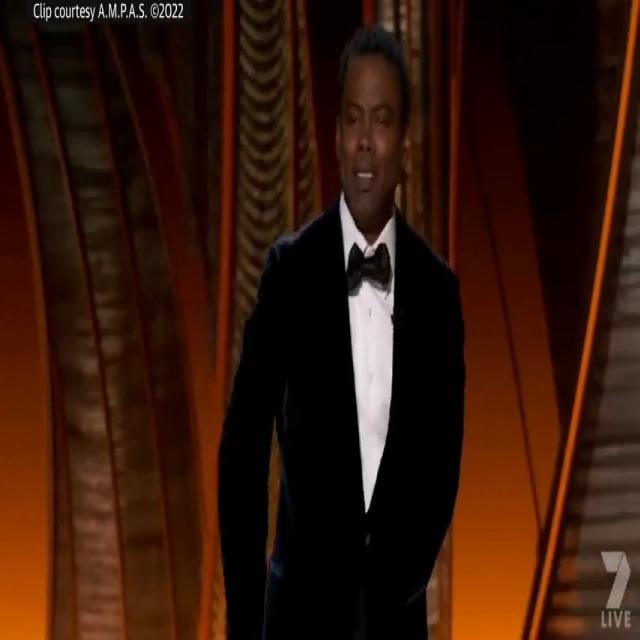non-fight: (182, 4, 510, 640)
